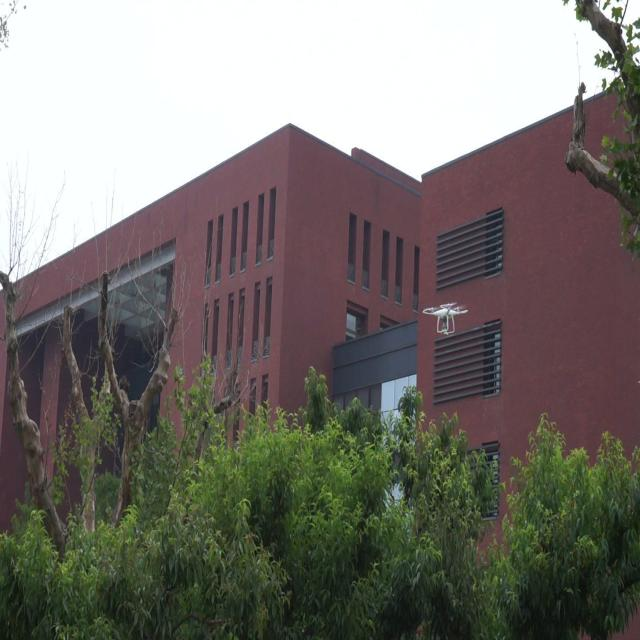drone: (422, 303, 471, 338)
